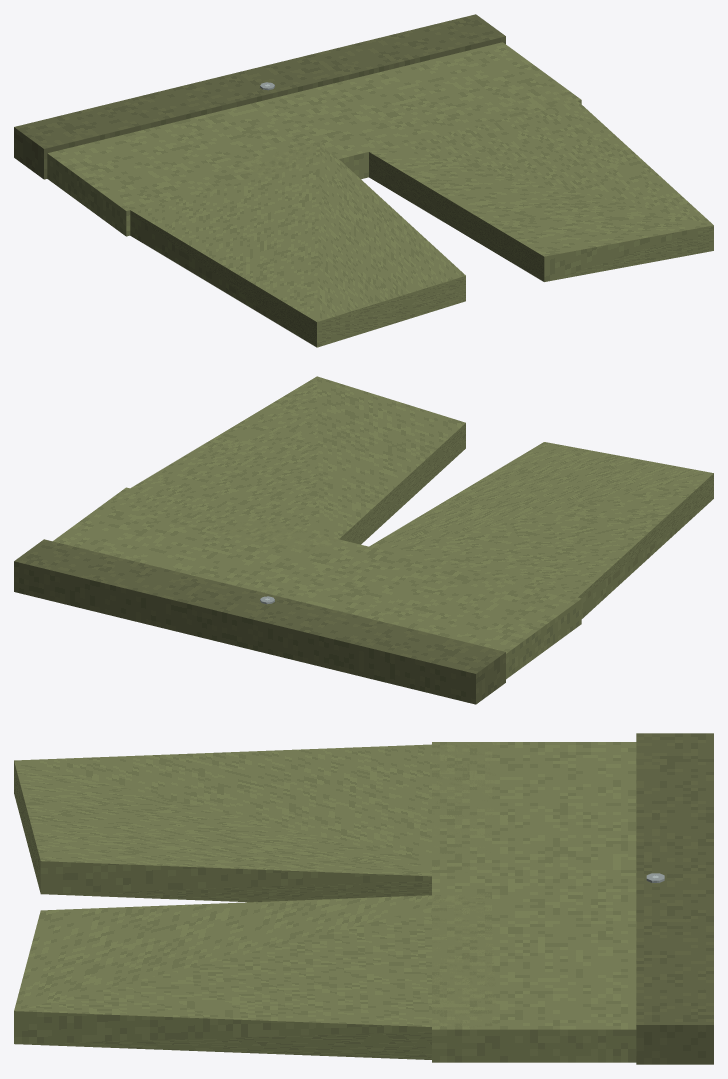
File: boy_shorts.glb
3 views of the same model, one above another, from view 1: azimuth 30°, elevation 25°; view 2: azimuth 150°, elevation 25°; view 3: azimuth 270°, elevation 25° (orthographic). The views are drawn at different scales.
Visible parts, largest first — view 1: block_leg -1, block_seat, block_leg 1, block_waistband; view 2: block_leg 1, block_seat, block_leg -1, block_waistband; view 3: block_leg 1, block_seat, block_leg -1, block_waistband.
Part boxes in pixels (x1=…): block_leg -1: x1=130, y1=142, x2=465, y2=347; block_seat: x1=47, y1=42, x2=581, y2=236; block_leg 1: x1=369, y1=83, x2=713, y2=281; block_waistband: x1=14, y1=14, x2=505, y2=179; block_leg 1: x1=101, y1=376, x2=465, y2=554; block_seat: x1=53, y1=487, x2=581, y2=679; block_leg -1: x1=369, y1=442, x2=713, y2=618; block_waistband: x1=14, y1=539, x2=505, y2=704; block_leg 1: x1=14, y1=893, x2=497, y2=1059; block_seat: x1=432, y1=742, x2=636, y2=1062; block_leg -1: x1=14, y1=742, x2=496, y2=902; block_waistband: x1=636, y1=733, x2=713, y2=1064.
Bounding box in the file's own units: 0.284 × 0.019 × 0.288.
Materials: 1 (1 with a texture image).
